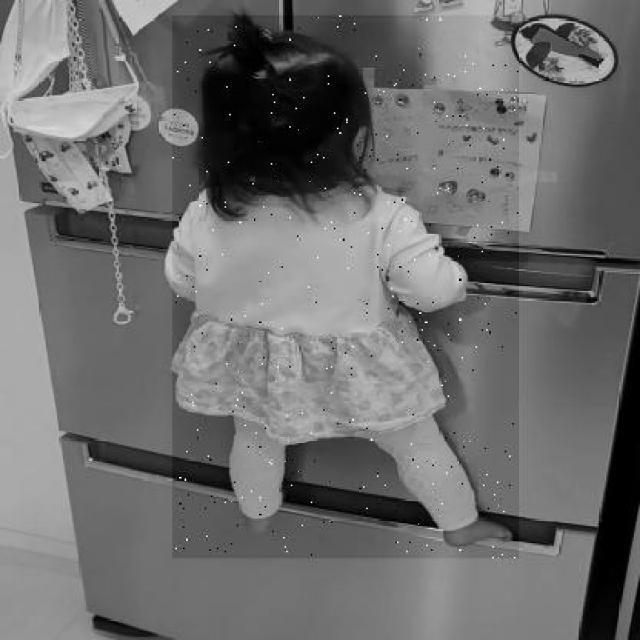child: (172, 16, 520, 559)
